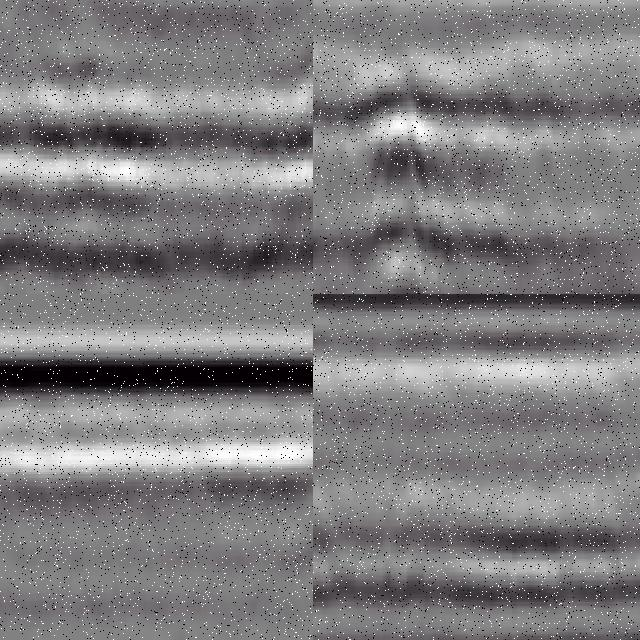loose: (314, 50, 512, 295)
